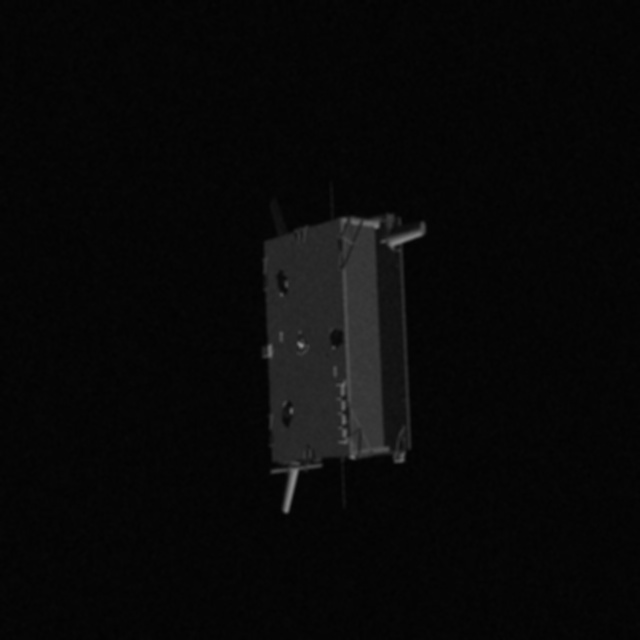satellite: (244, 196, 440, 520)
